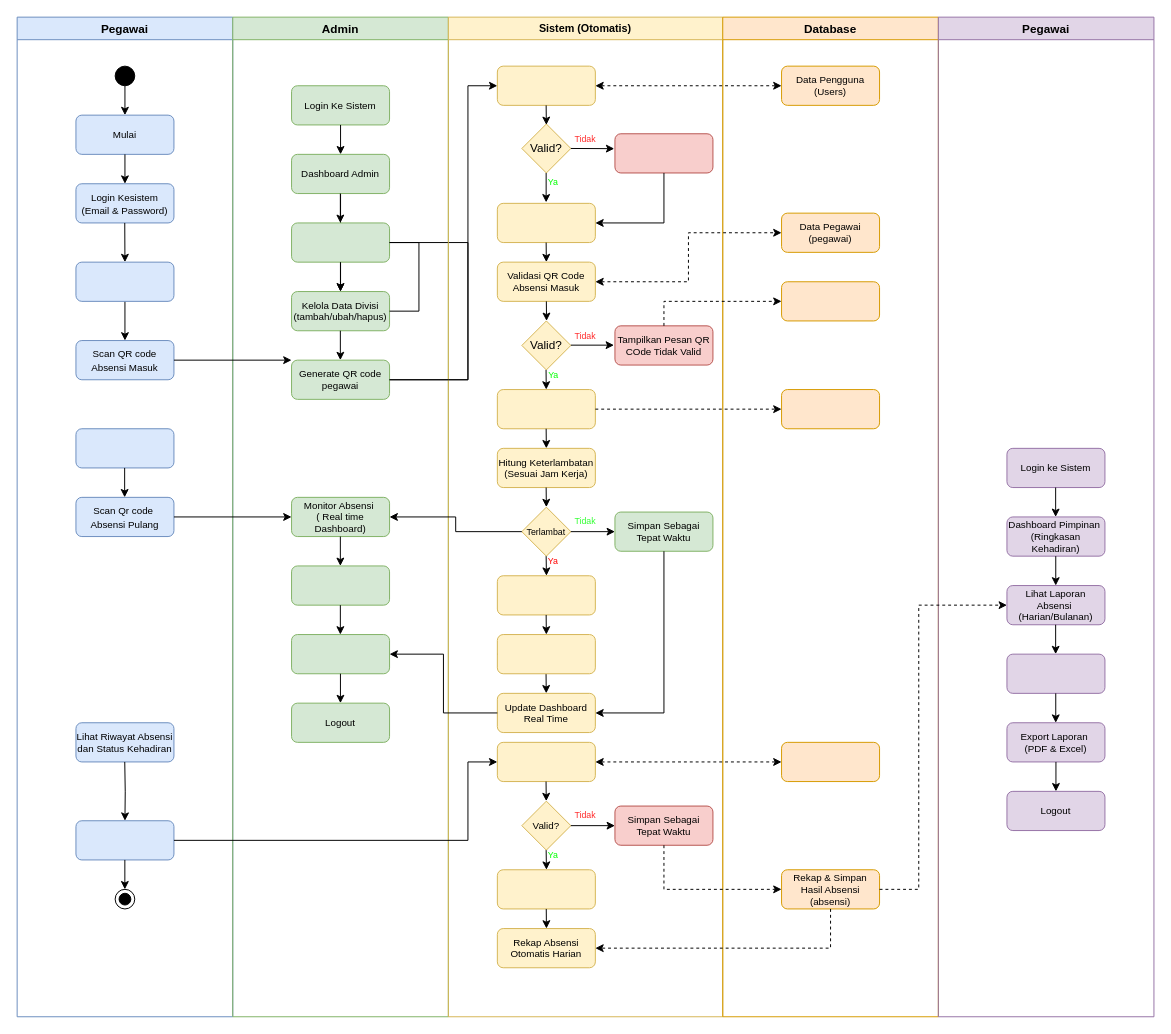
The diagram is 1171 pixels wide and 1034 high, and some of its shapes have lost their labels. The centre of each missing label's shape, as x and y in pixels:
"Analisis & Evaluasi Kehadiran" goes at (1055,673).
"Beranda Pegawai" goes at (124,281).
"Beranda/Dashboard Sistem" goes at (545,222).
"Data Divisi (divisi0" goes at (830,301).
"Export Laporan (PDF/Excel)" goes at (340,654).
"Generate Laporan absensi" goes at (340,585).
"Kelola Data Pegawai (tambah/ubah/hapus)" goes at (340,242).
"Kirim Notifikasi Keterlambatan Ke admin" goes at (545,654).
"Melakukan Aktivitas pekerjaan" goes at (124,448).
"Selesai" goes at (124,840).
"Simpan Data Jam Masuk" goes at (545,409).
"Simpan Data Jam Pulang" goes at (545,889).
"Simpan Record Absensi Masuk (absensi)" goes at (830,409).
"Simpan Record Absensi pulang (absensi)" goes at (830,761).
"Simpan Sebagai Terlambat" goes at (545,595).
"Tolak Akses (Login Gagal)" goes at (663,153).
"Validasi Login (JWT Authentication)" goes at (545,85).
"Validasi QR Code Absensi Pulang" goes at (545,761).
